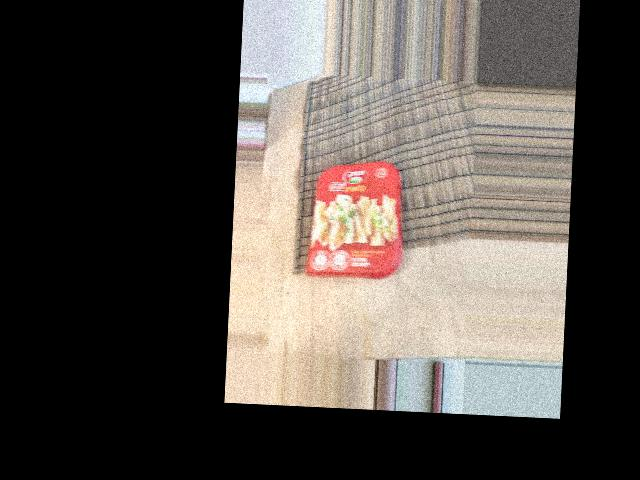cheese: (346, 150, 477, 246)
